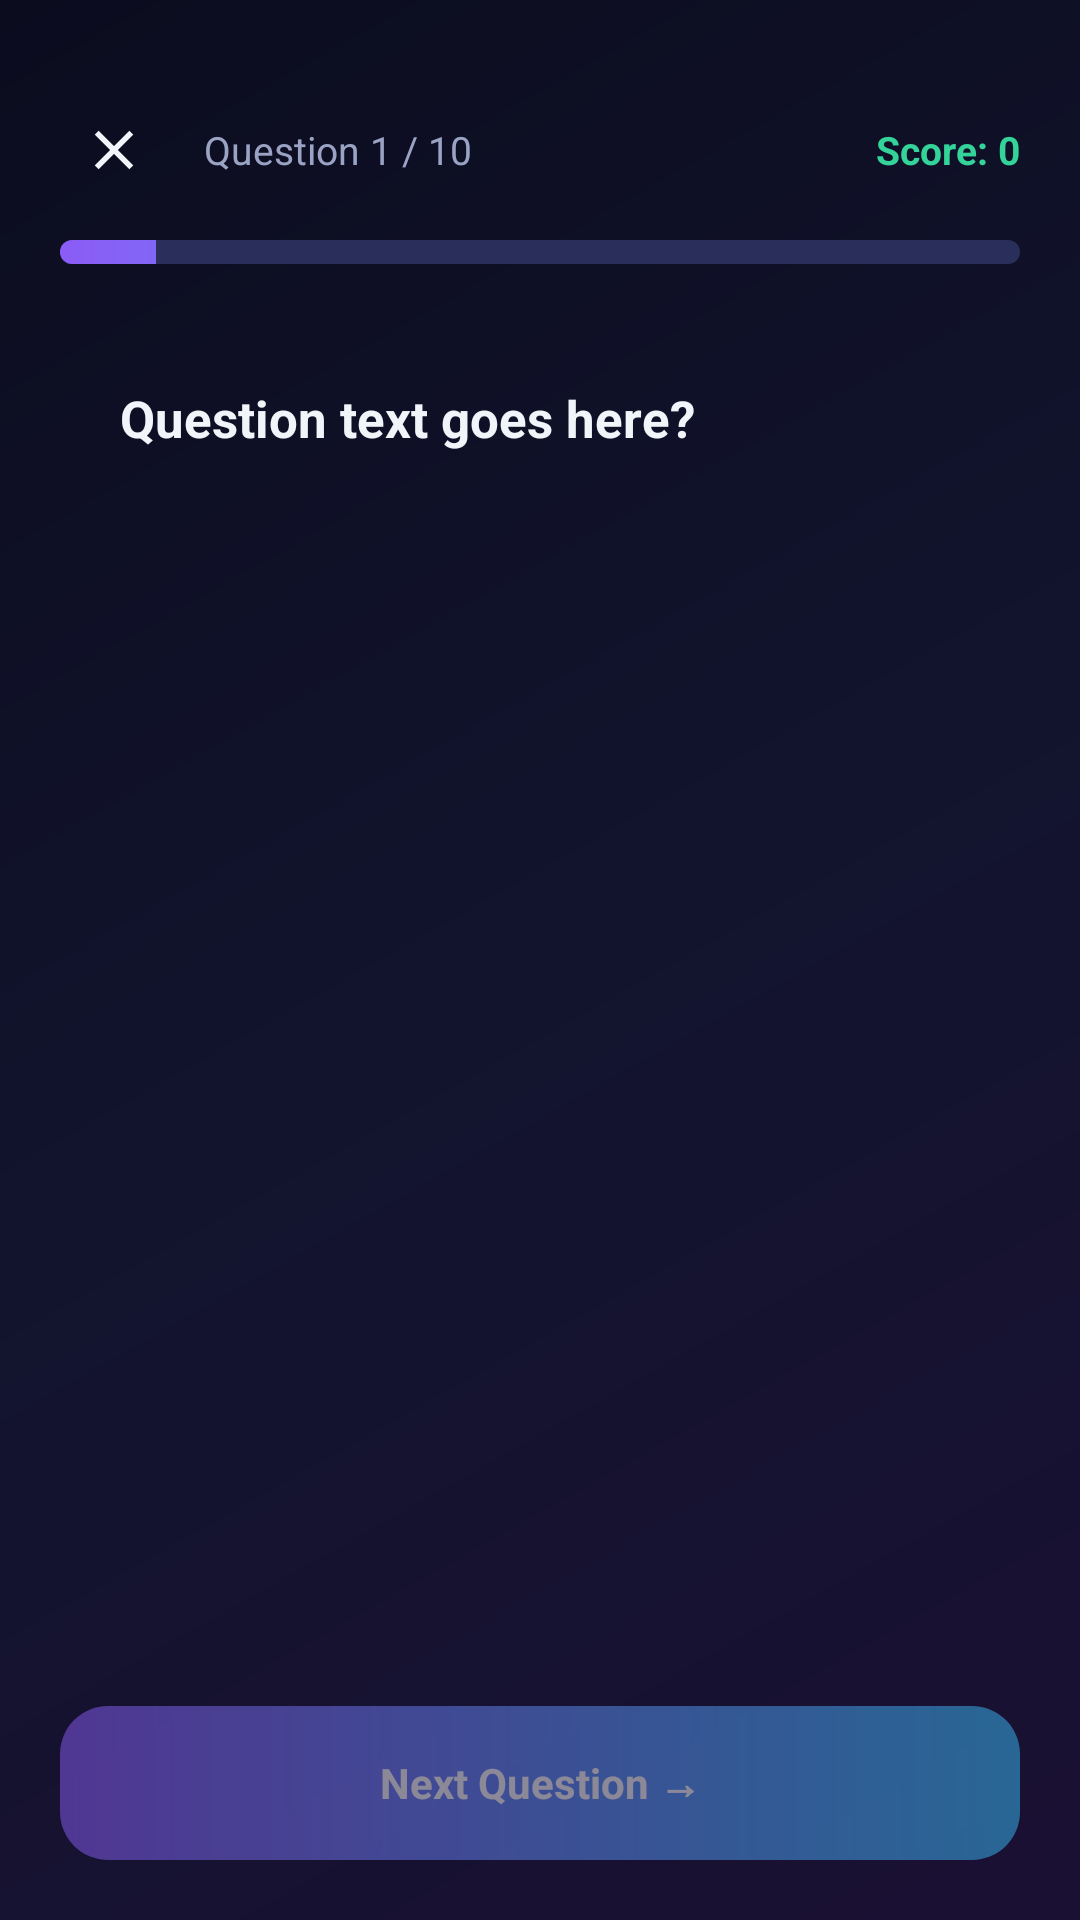

Named icons in this screenshot (1080*1920) and their centers, [x,y]:
Close: [114,150]
